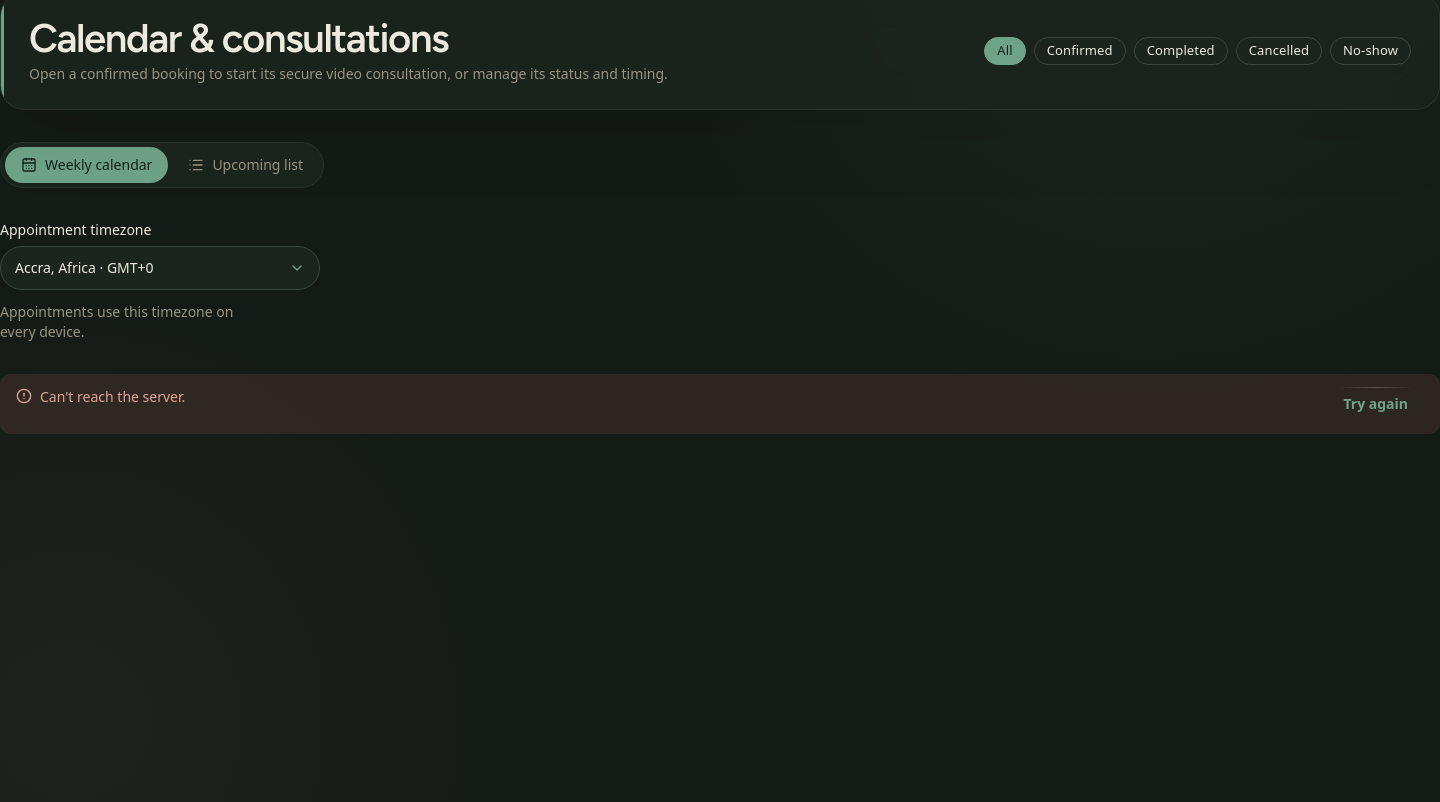
CalendarPage › shows an error banner with retry on failure
This screenshot has width=1440, height=802.
Expected: the message "Can't reach the server. Try again" is shown, x1=0 y1=374 x2=1439 y2=434
Click the button "Try again" at (1376, 404), box x1=1327 y1=386 x2=1424 y2=422
(page scrolled)
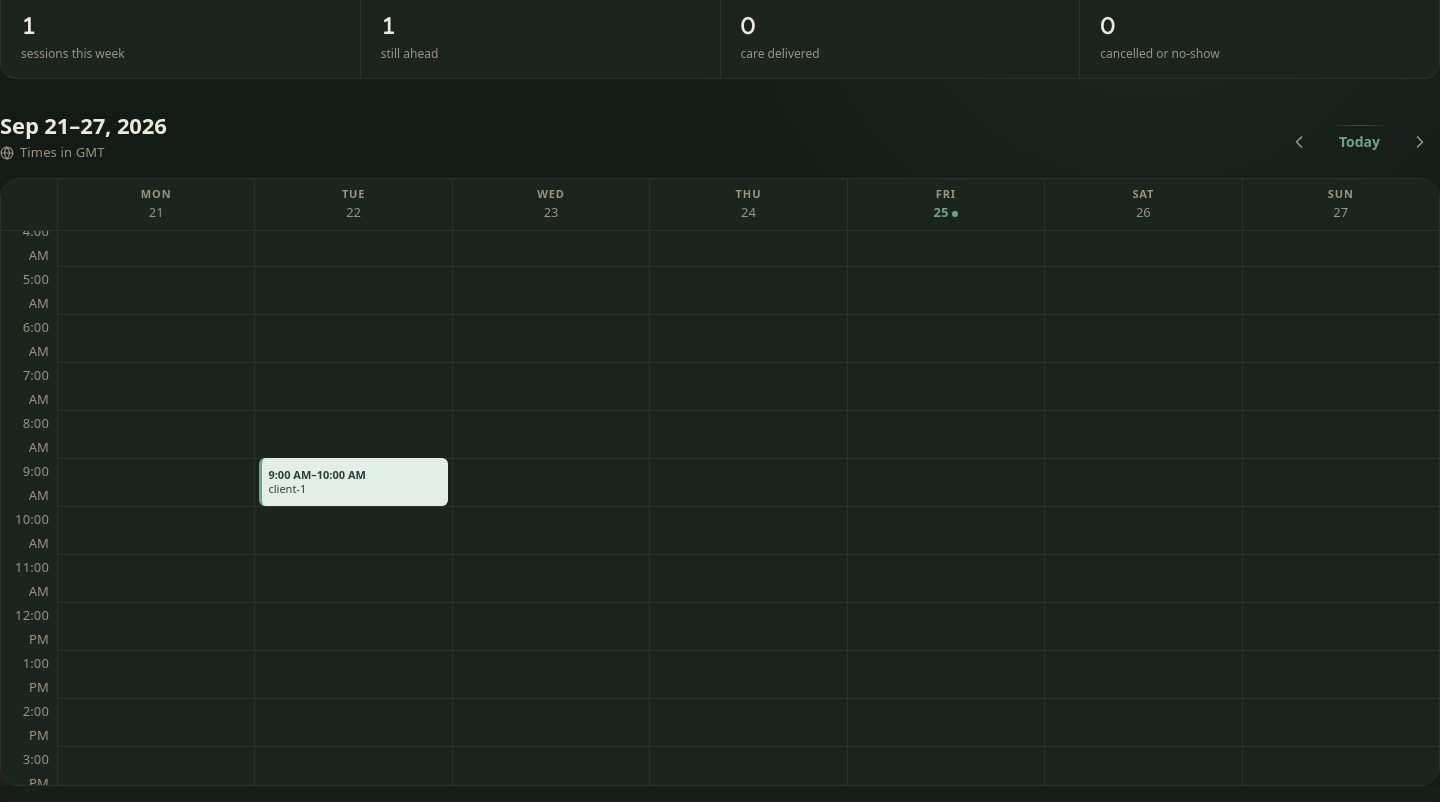
Now the button with aria-label "9:00 AM to 10:00 AM, client-1, svc-1, Confirmed" is shown, box x1=259 y1=458 x2=448 y2=506
